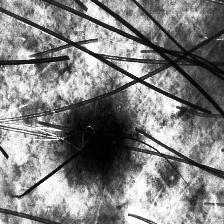Benign Marking or Mole: (56, 94, 137, 181)
